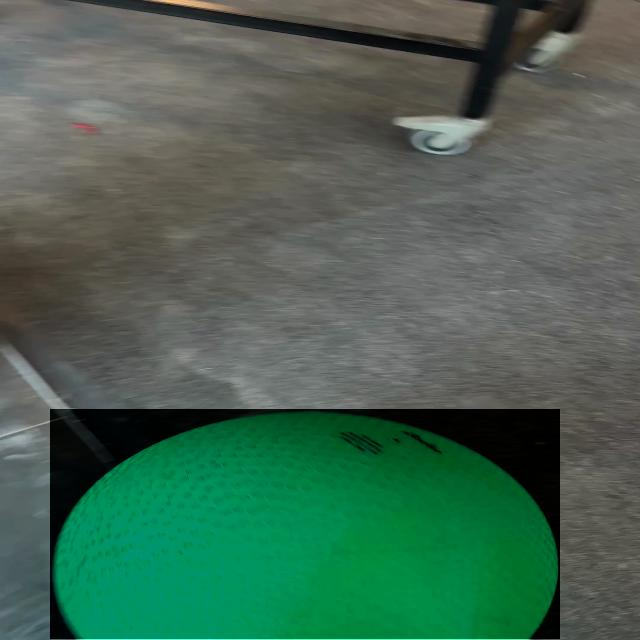Algae: (50, 409, 560, 639)
